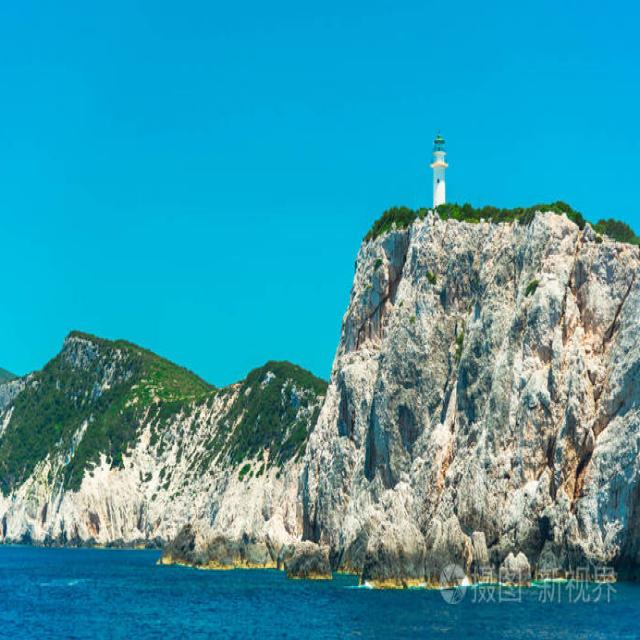reef: (160, 414, 520, 602)
